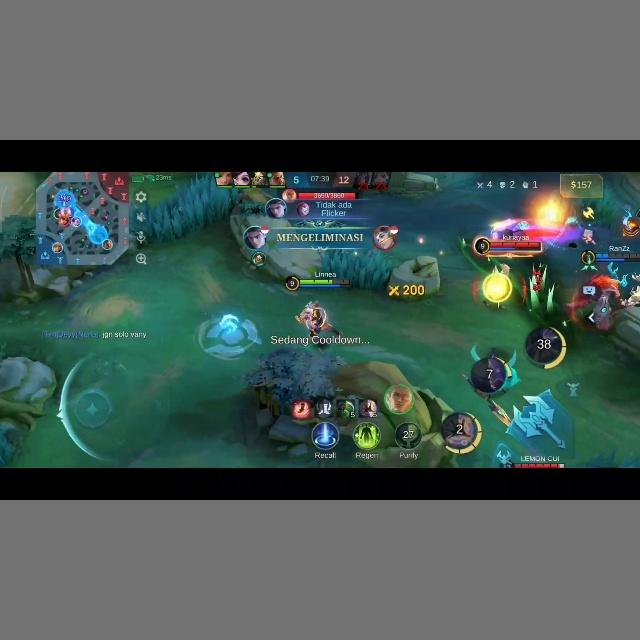hero_enemy: (481, 275, 512, 307)
hero_self: (298, 300, 340, 340)
hp_enemy: (470, 235, 545, 257), (498, 458, 566, 468), (299, 189, 356, 199)
hp_self: (579, 249, 640, 265), (282, 276, 342, 290)
